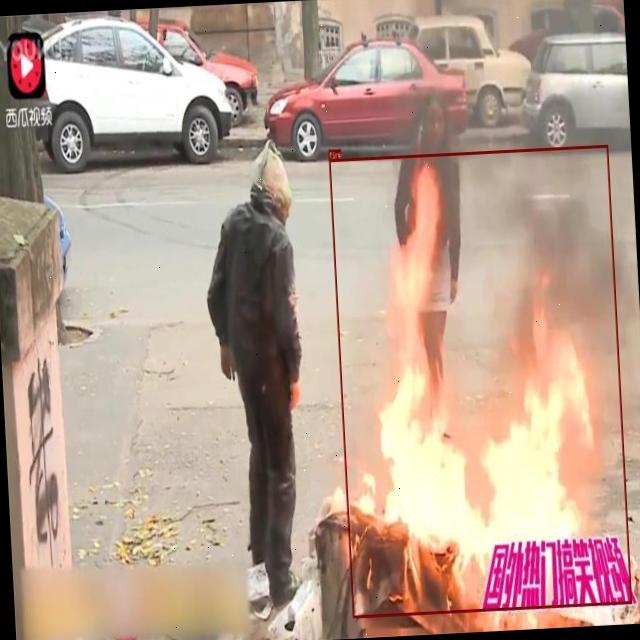fire: (328, 145, 632, 618)
